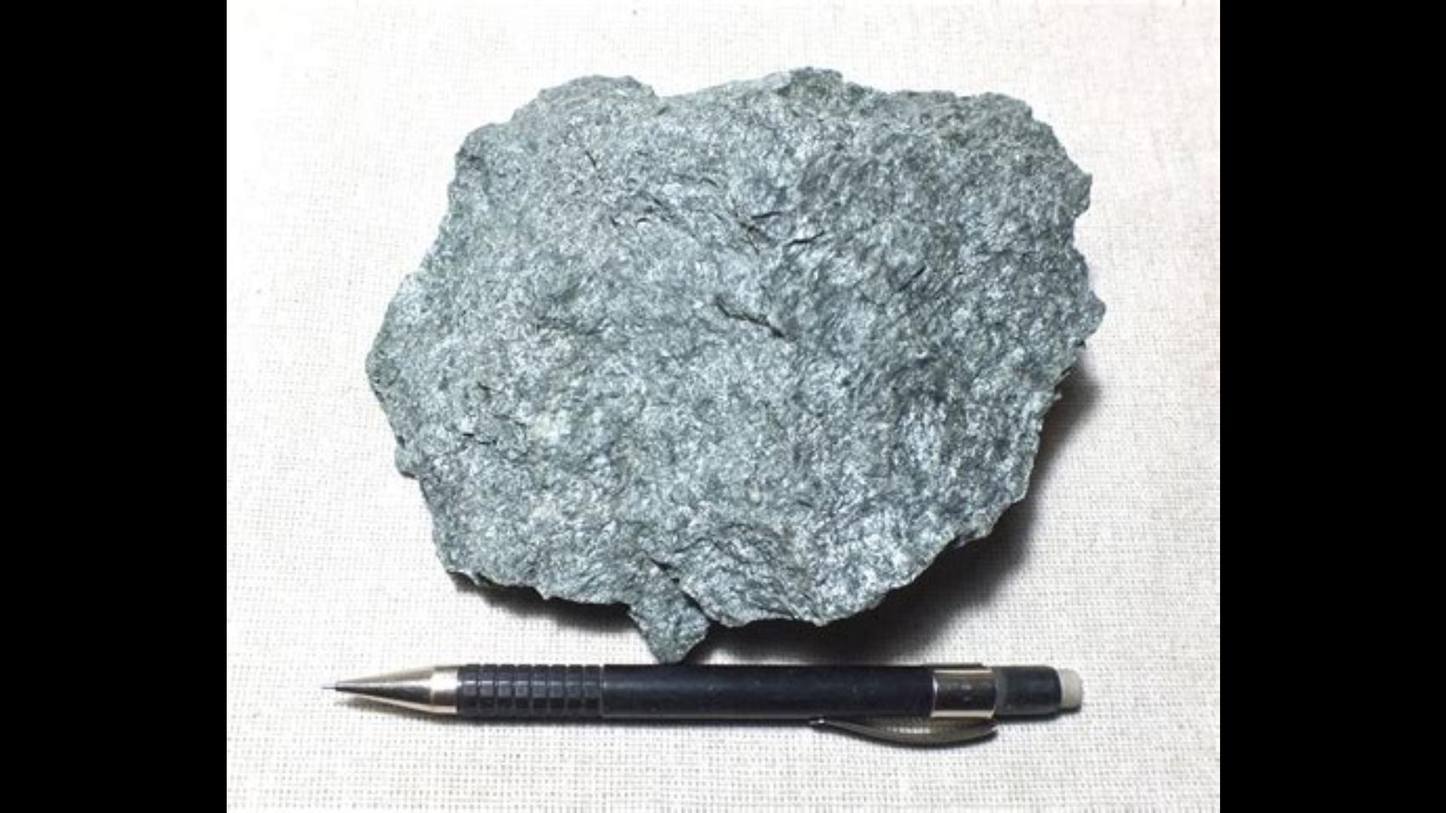rock: (366, 69, 1100, 660)
